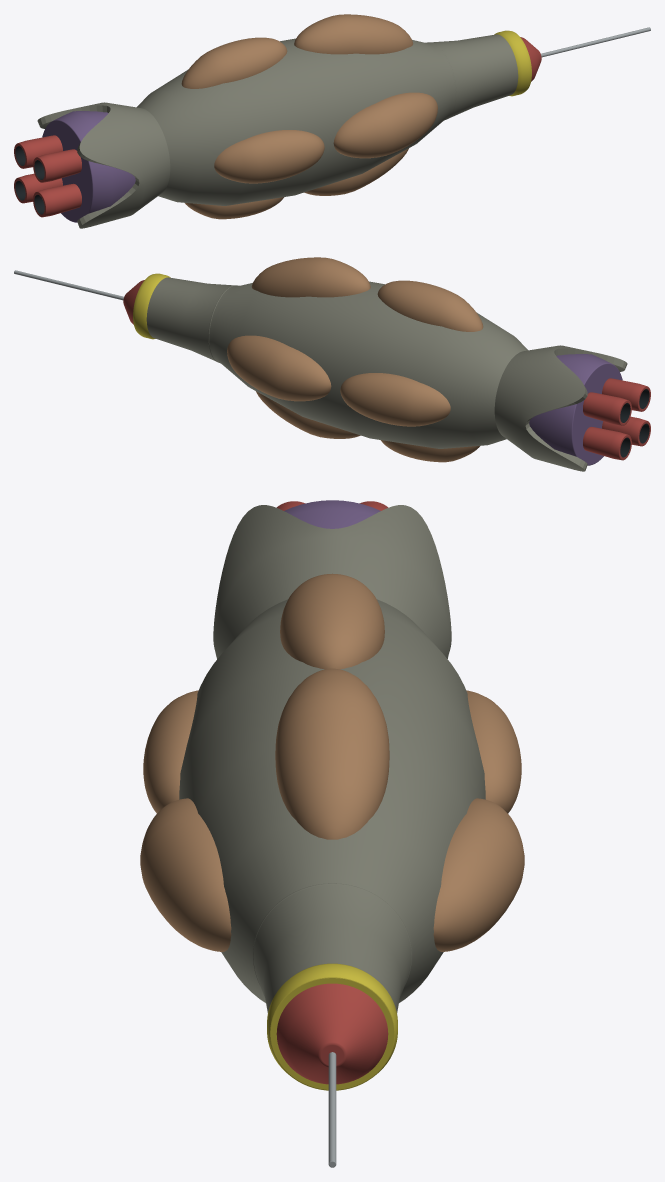
3 renders of one model, top to bottom at view 1: azimuth 30°, elevation 25°; view 2: azimuth 150°, elevation 25°; view 3: azimuth 270°, elevation 25°, orthographic. The views are drawn at different scales.
Parts seen in each view (by area): view 1: TI095 / Virus two-row pressure casing, TI095 / Virus family scalloped olive skirt, TI095 / Virus bronze side form.004, TI095 / Virus bronze side form, TI095 / Virus family violet skirt underlayer, TI095 / Virus bronze side form.007, TI095 / Virus bronze side form.003, TI095 / Virus family hollow red nozzle.001, TI095 / Virus family hollow red nozzle, TI095 / Virus bronze side form.005, TI095 / Virus bronze side form.001, TI095 / Virus family hollow red nozzle.002 (+4 smaller); view 2: TI095 / Virus two-row pressure casing, TI095 / Virus family scalloped olive skirt, TI095 / Virus bronze side form.006, TI095 / Virus bronze side form.002, TI095 / Virus family violet skirt underlayer, TI095 / Virus bronze side form.007, TI095 / Virus bronze side form.003, TI095 / Virus family hollow red nozzle.003, TI095 / Virus family hollow red nozzle.002, TI095 / Virus bronze side form.005, TI095 / Virus bronze side form.001, TI095 / Virus family hollow red nozzle (+4 smaller); view 3: TI095 / Virus two-row pressure casing, TI095 / Virus family scalloped olive skirt, TI095 / Virus bronze side form.007, TI095 / Virus bronze side form.004, TI095 / Virus bronze side form.006, TI095 / Virus family red nose cap, TI095 / Virus bronze side form.003, TI095 / Virus yellow nose collar, TI095 / Virus bronze side form, TI095 / Virus bronze side form.002, TI095 / Virus family violet skirt underlayer, TI095 / Virus family long antenna.
Boxes of the visible parts, <box> form: TI095 / Virus two-row pressure casing: <box>137,34,518,205</box>; TI095 / Virus family scalloped olive skirt: <box>37,102,170,228</box>; TI095 / Virus bronze side form.004: <box>333,92,437,158</box>; TI095 / Virus bronze side form: <box>214,130,324,183</box>; TI095 / Virus family violet skirt underlayer: <box>42,111,135,222</box>; TI095 / Virus bronze side form.007: <box>294,14,413,54</box>; TI095 / Virus bronze side form.003: <box>181,37,287,88</box>; TI095 / Virus family hollow red nozzle.001: <box>33,183,81,217</box>; TI095 / Virus family hollow red nozzle: <box>33,149,81,182</box>; TI095 / Virus bronze side form.005: <box>304,148,408,195</box>; TI095 / Virus bronze side form.001: <box>185,197,284,219</box>; TI095 / Virus family hollow red nozzle.002: <box>14,135,62,168</box>; TI095 / Virus two-row pressure casing: <box>146,277,527,448</box>; TI095 / Virus family scalloped olive skirt: <box>494,345,627,471</box>; TI095 / Virus bronze side form.006: <box>227,335,331,401</box>; TI095 / Virus bronze side form.002: <box>340,373,450,426</box>; TI095 / Virus family violet skirt underlayer: <box>529,354,622,465</box>; TI095 / Virus bronze side form.007: <box>251,257,370,297</box>; TI095 / Virus bronze side form.003: <box>377,280,483,331</box>; TI095 / Virus family hollow red nozzle.003: <box>583,426,631,460</box>; TI095 / Virus family hollow red nozzle.002: <box>583,392,631,425</box>; TI095 / Virus bronze side form.005: <box>256,391,360,438</box>; TI095 / Virus bronze side form.001: <box>380,440,479,462</box>; TI095 / Virus family hollow red nozzle: <box>602,378,650,411</box>; TI095 / Virus two-row pressure casing: <box>179,599,485,1012</box>; TI095 / Virus family scalloped olive skirt: <box>213,505,451,659</box>; TI095 / Virus bronze side form.007: <box>275,668,389,839</box>; TI095 / Virus bronze side form.004: <box>140,798,231,951</box>; TI095 / Virus bronze side form.006: <box>433,798,524,951</box>; TI095 / Virus family red nose cap: <box>276,983,388,1084</box>; TI095 / Virus bronze side form.003: <box>280,573,384,669</box>; TI095 / Virus yellow nose collar: <box>267,963,397,1090</box>; TI095 / Virus bronze side form: <box>143,690,198,813</box>; TI095 / Virus bronze side form.002: <box>466,690,521,813</box>; TI095 / Virus family violet skirt underlayer: <box>284,500,380,528</box>; TI095 / Virus family long antenna: <box>328,1052,336,1167</box>.
Bounding box in the file's own units: 6.61 × 1.77 × 1.77.
